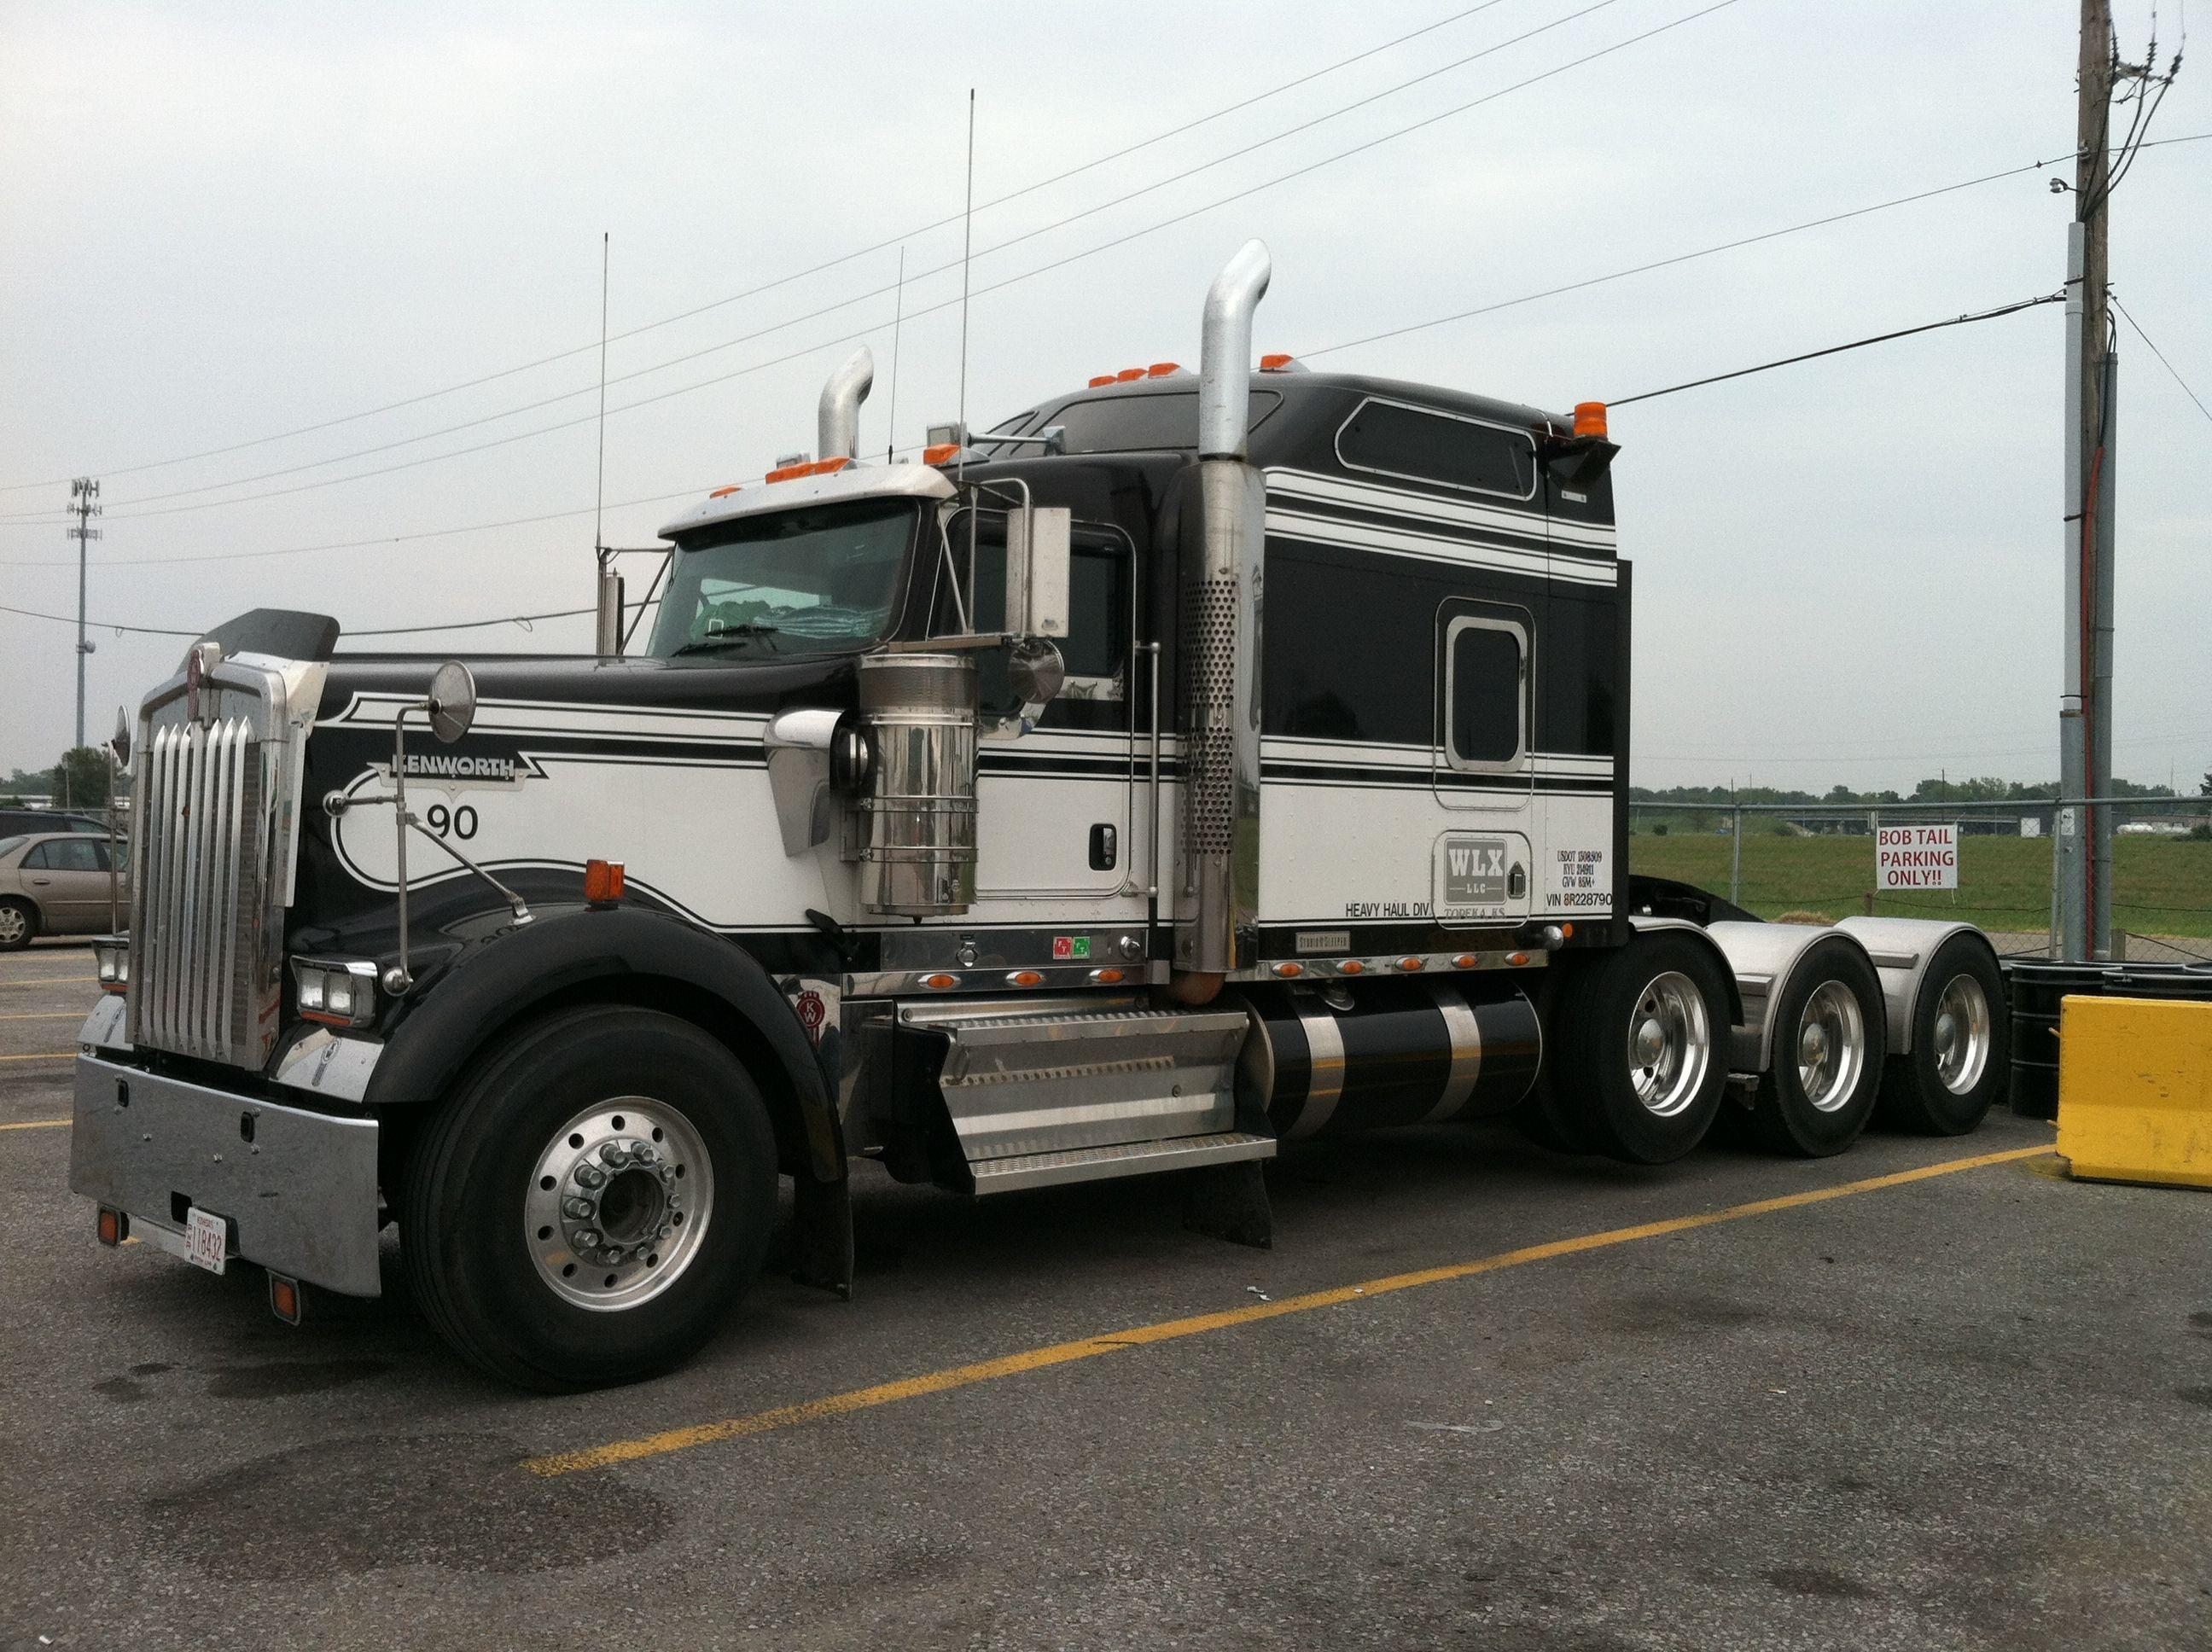heavy truck: (80, 288, 2026, 1341)
